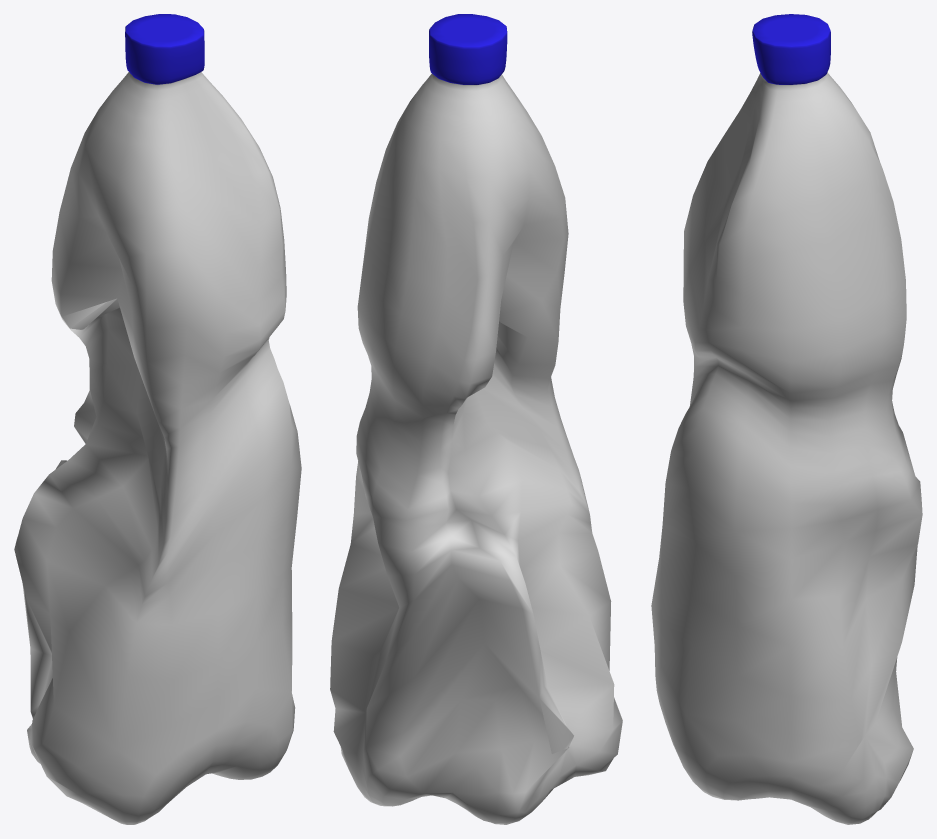
The model's file is bottleDamaged.fbx.
3 views of the same model, side by side, from view 1: azimuth 30°, elevation 25°; view 2: azimuth 150°, elevation 25°; view 3: azimuth 270°, elevation 25° (orthographic).
Visible parts, largest first — view 1: Cube; view 2: Cube; view 3: Cube.
Part boxes in pixels (left/top/right/bottom): Cube: left=14, top=14, right=301, bottom=824; Cube: left=330, top=14, right=622, bottom=824; Cube: left=651, top=14, right=922, bottom=824.
Size of the model in its own units: 141 by 412 by 132.
